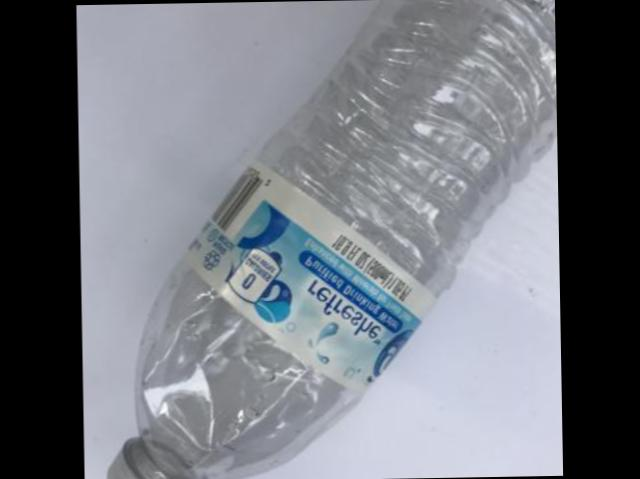plastic: (110, 0, 558, 479)
